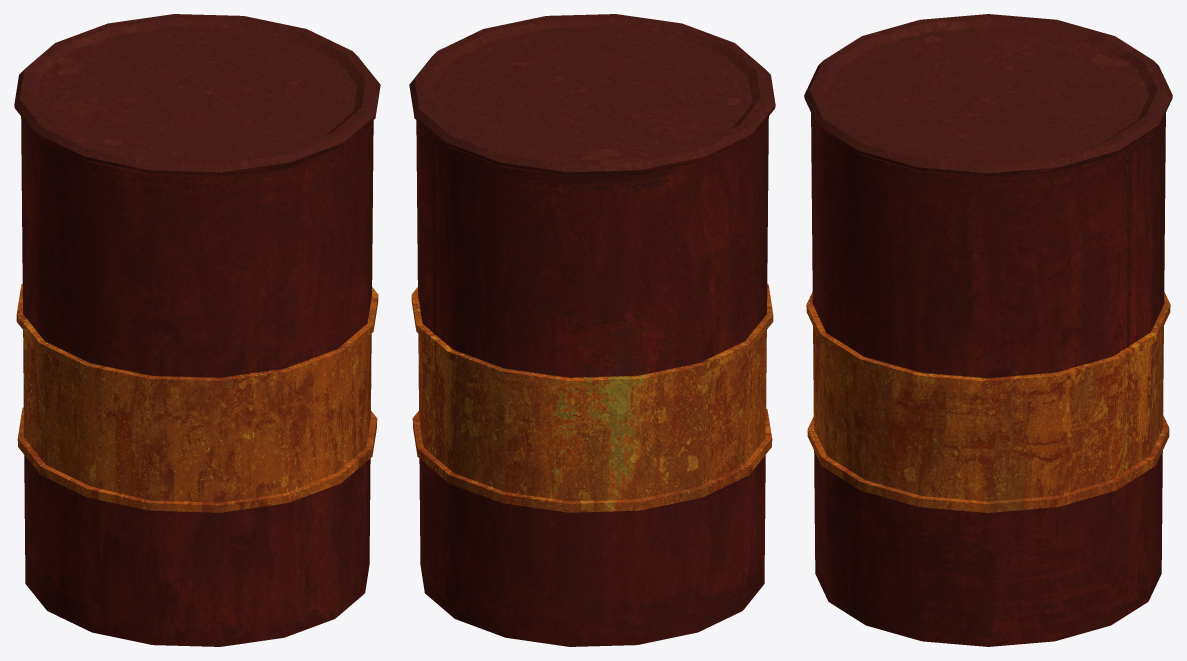
File: barrel.fbx
3 renders of one model, left to right at view 1: azimuth 30°, elevation 25°; view 2: azimuth 150°, elevation 25°; view 3: azimuth 270°, elevation 25°, orthographic.
Parts seen in each view (by area): view 1: pCylinder1; view 2: pCylinder1; view 3: pCylinder1.
Boxes of the visible parts, box(x1,y1,x2,y2) form: pCylinder1: box(14, 14, 380, 646); pCylinder1: box(409, 14, 775, 646); pCylinder1: box(804, 14, 1172, 646).
Size of the model in its own units: 42.58 by 61.68 by 42.58.
1 material, 1 textured.
